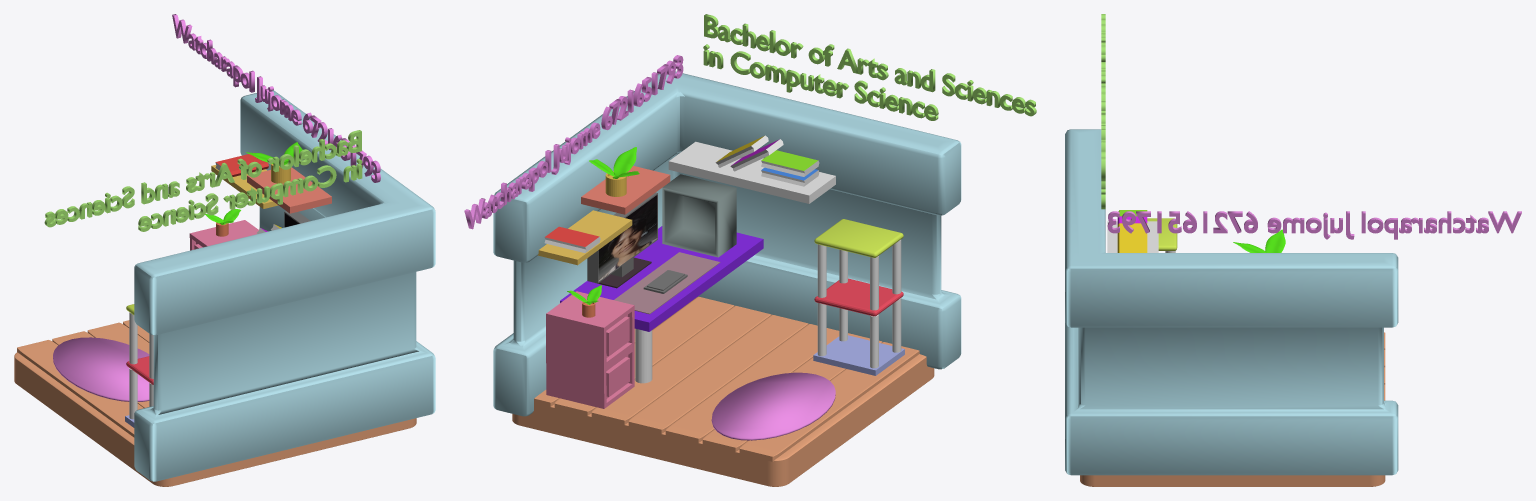
File: NewRoom.glb
3 renders of one model, left to right at view 1: azimuth 30°, elevation 25°; view 2: azimuth 150°, elevation 25°; view 3: azimuth 270°, elevation 25°, orthographic. The views are drawn at different scales.
Parts seen in each view (by area): view 1: Cube, Text.002, Cube.001, Cylinder.006, Text.001, Cube.002, Cube.011, Cube.005, Cube.010, Cube.021; view 2: Cube, Cube.002, Cube.001, Cube.005, Text.002, Cylinder.006, Cube.006, Text.001, Cube.003, Cube.012, Cube.007, Plane.009 (+9 smaller); view 3: Cube, Text.001, Cube.001, Text.002, Cube.019, Cube.012, Cube.025.
Part boxes in pixels (bbox=[...]): Cube: bbox=[134, 90, 435, 481]; Text.002: bbox=[44, 130, 362, 231]; Cube.001: bbox=[14, 352, 416, 486]; Cylinder.006: bbox=[53, 337, 149, 401]; Text.001: bbox=[172, 14, 380, 182]; Cube.002: bbox=[17, 320, 149, 437]; Cube.011: bbox=[247, 167, 331, 213]; Cube.005: bbox=[189, 220, 258, 250]; Cube.010: bbox=[211, 165, 278, 208]; Cube.021: bbox=[216, 152, 268, 176]; Cube: bbox=[493, 71, 961, 416]; Cube.002: bbox=[534, 296, 919, 461]; Cube.001: bbox=[512, 354, 934, 486]; Cube.005: bbox=[546, 291, 634, 408]; Text.002: bbox=[703, 14, 1036, 120]; Cylinder.006: bbox=[711, 372, 835, 440]; Cube.006: bbox=[662, 174, 736, 257]; Text.001: bbox=[464, 55, 683, 229]; Cube.003: bbox=[560, 226, 763, 331]; Cube.012: bbox=[668, 141, 835, 203]; Cube.007: bbox=[614, 252, 720, 314]; Plane.009: bbox=[598, 195, 657, 281]; Cube: bbox=[1065, 129, 1398, 475]; Text.001: bbox=[1107, 211, 1521, 239]; Cube.001: bbox=[1080, 475, 1385, 486]; Text.002: bbox=[1101, 14, 1105, 209]; Cube.019: bbox=[1117, 223, 1147, 252]; Cube.012: bbox=[1107, 221, 1158, 252]; Cube.025: bbox=[1147, 218, 1177, 250].
Size of the model in its own units: 14.24 by 10.93 by 14.96.
44 materials, 1 textured.
